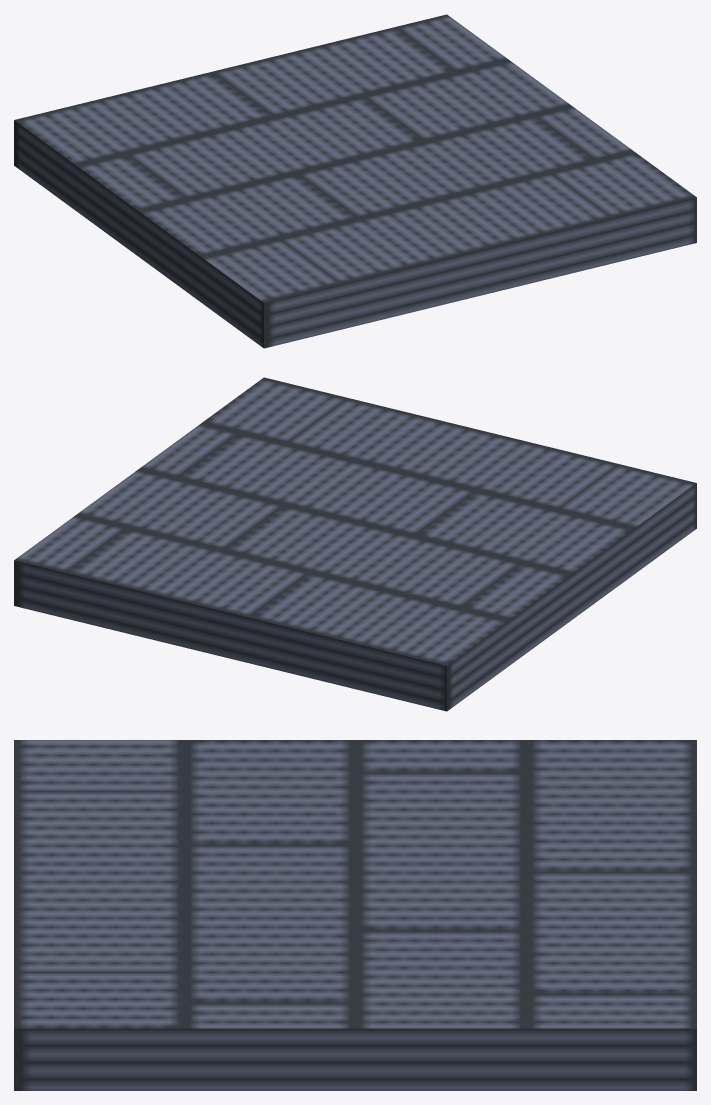
The model's file is floor.FBX.
The picture shows the model from 3 angles, top to bottom: view 1: azimuth 30°, elevation 25°; view 2: azimuth 150°, elevation 25°; view 3: azimuth 270°, elevation 25°; orthographic projection. The views are drawn at different scales.
Parts seen in each view (by area): view 1: Object000_Element; view 2: Object000_Element; view 3: Object000_Element.
Boxes of the visible parts, x1=… form: Object000_Element: x1=14, y1=14, x2=696, y2=348; Object000_Element: x1=14, y1=377, x2=696, y2=711; Object000_Element: x1=14, y1=740, x2=696, y2=1090.
Size of the model in its own units: 100 by 10.05 by 100.
